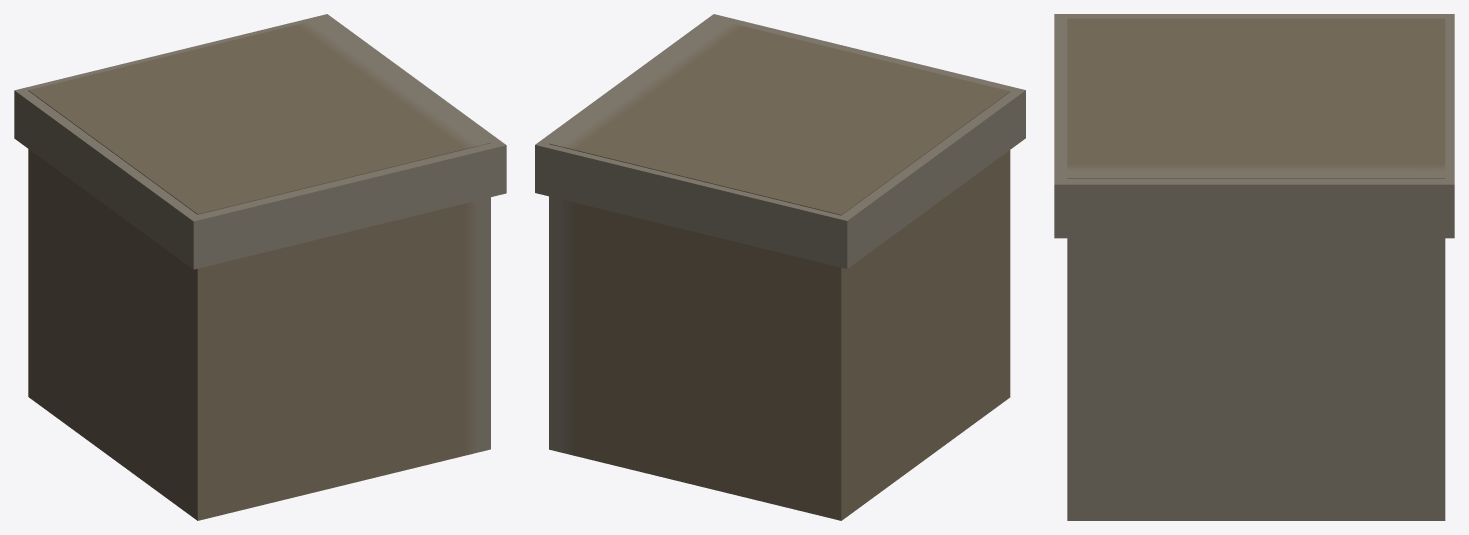
3 renders of one model, left to right at view 1: azimuth 30°, elevation 25°; view 2: azimuth 150°, elevation 25°; view 3: azimuth 270°, elevation 25°, orthographic. The views are drawn at different scales.
Parts seen in each view (by area): view 1: Cube 01.001, Cube 01; view 2: Cube 01.001, Cube 01; view 3: Cube 01.001, Cube 01.
Boxes of the visible parts, x1,y1,x2,y2 form: Cube 01.001: [28, 19, 490, 520]; Cube 01: [14, 14, 506, 269]; Cube 01.001: [549, 20, 1010, 520]; Cube 01: [535, 14, 1025, 268]; Cube 01.001: [1067, 18, 1445, 520]; Cube 01: [1054, 14, 1454, 238].
Size of the model in its own units: 203 by 191 by 202.
2 materials, 2 textured.
